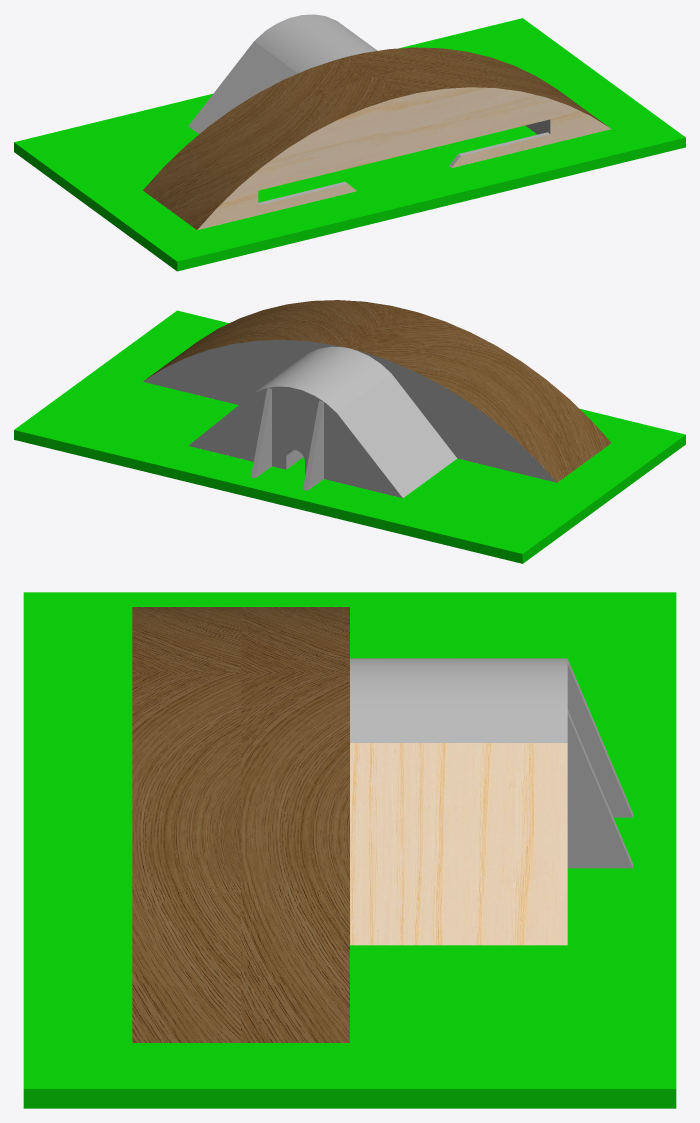
The model's file is 4ensr.glb.
3 renders of one model, top to bottom at view 1: azimuth 30°, elevation 25°; view 2: azimuth 150°, elevation 25°; view 3: azimuth 270°, elevation 25°, orthographic. The views are drawn at different scales.
Visible parts, largest first — view 1: 4号自分で着色.SLDPRT; view 2: 4号自分で着色.SLDPRT; view 3: 4号自分で着色.SLDPRT.
Part boxes in pixels (bbox=[...]): 4号自分で着色.SLDPRT: bbox=[14, 14, 685, 271]; 4号自分で着色.SLDPRT: bbox=[14, 300, 685, 563]; 4号自分で着色.SLDPRT: bbox=[23, 592, 676, 1108].
Bounding box in the file's own units: 54 × 9.5 × 30.
Materials: 5 (3 with a texture image).
